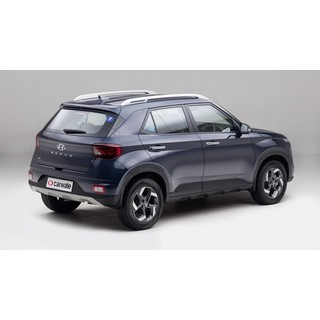car: (28, 91, 295, 228)
